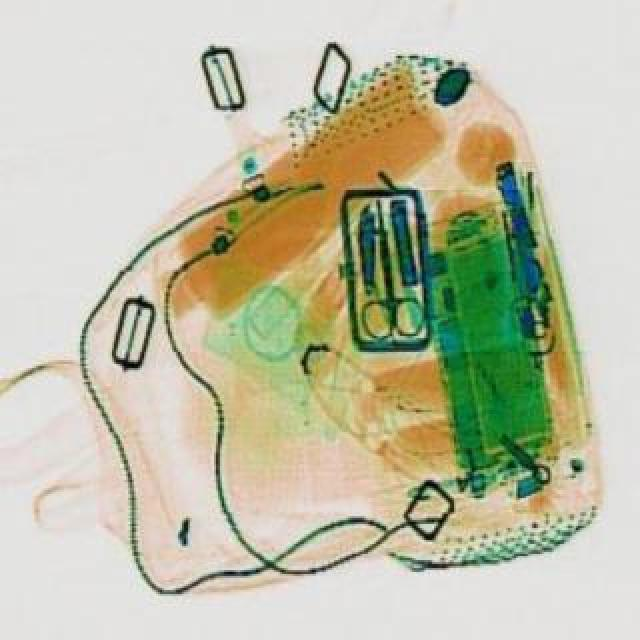pliers: (346, 204, 424, 346)
